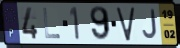1: (69, 6, 81, 42)
4: (21, 6, 39, 41)
9: (89, 5, 113, 43)
J: (142, 8, 159, 40)
L: (42, 7, 62, 40)
V: (115, 6, 136, 42)
